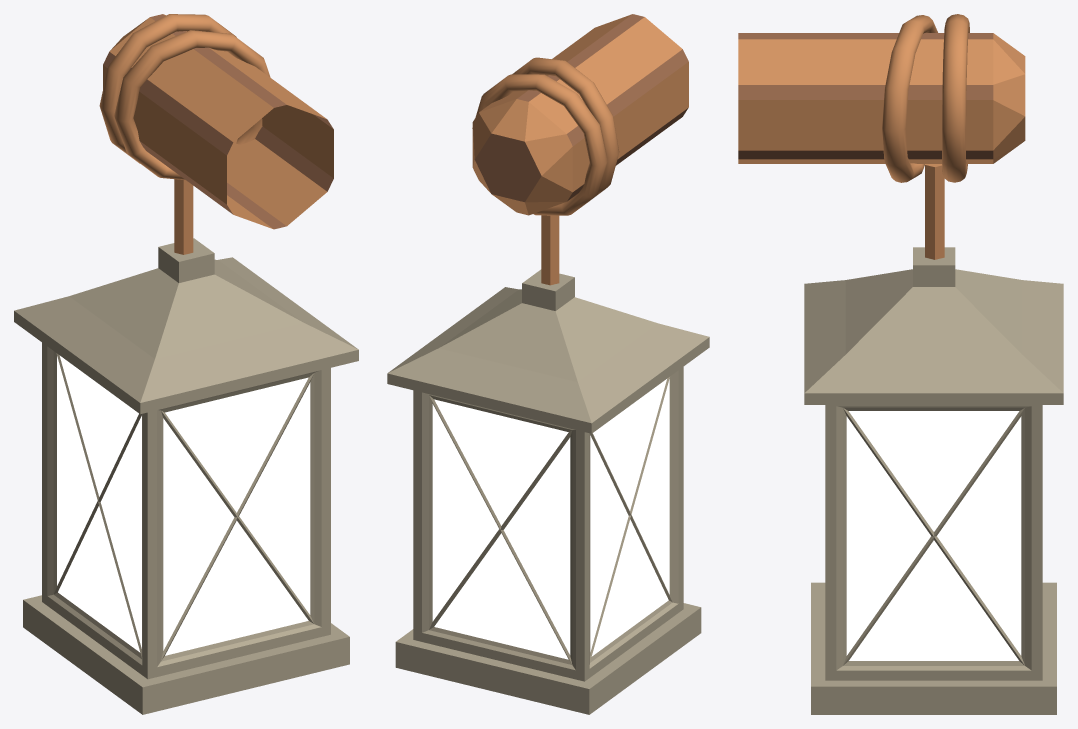
The model's file is Lantern_01.fbx.
3 renders of one model, left to right at view 1: azimuth 30°, elevation 25°; view 2: azimuth 150°, elevation 25°; view 3: azimuth 270°, elevation 25°, orthographic. The views are drawn at different scales.
Visible parts, largest first — view 1: Lantern_01; view 2: Lantern_01; view 3: Lantern_01.
Part boxes in pixels (left/top/right/bottom): Lantern_01: left=14, top=14, right=358, bottom=714; Lantern_01: left=387, top=14, right=709, bottom=714; Lantern_01: left=738, top=14, right=1063, bottom=714.
Size of the model in its own units: 16.16 by 44.04 by 20.28.
